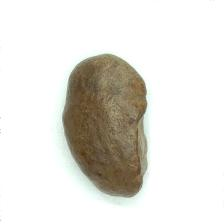NG: (129, 92, 153, 189)
